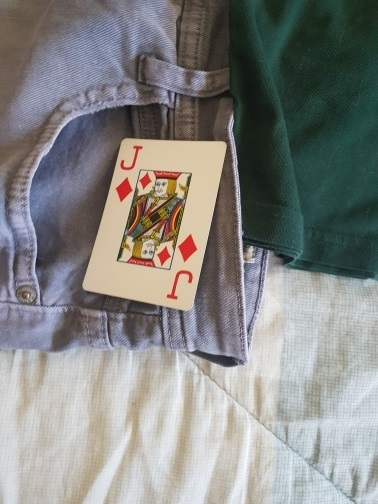jack: (82, 139, 228, 310)
